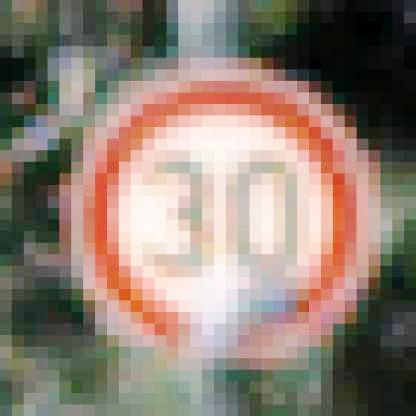Speed Limit -30-: (72, 60, 381, 361)
